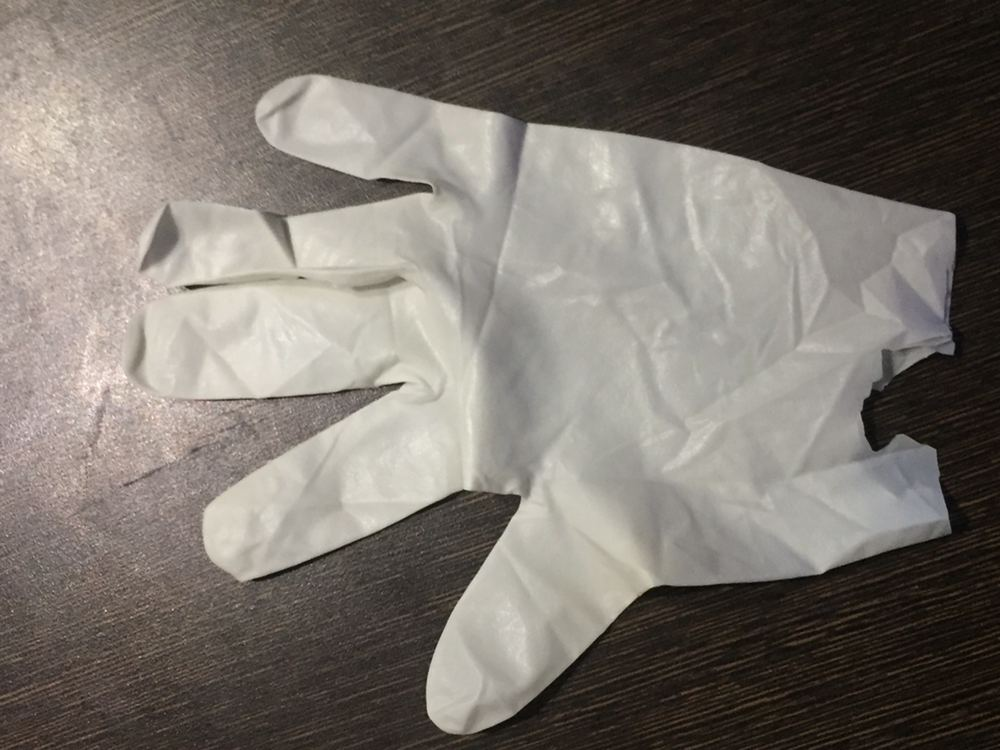defected: (93, 63, 976, 630)
